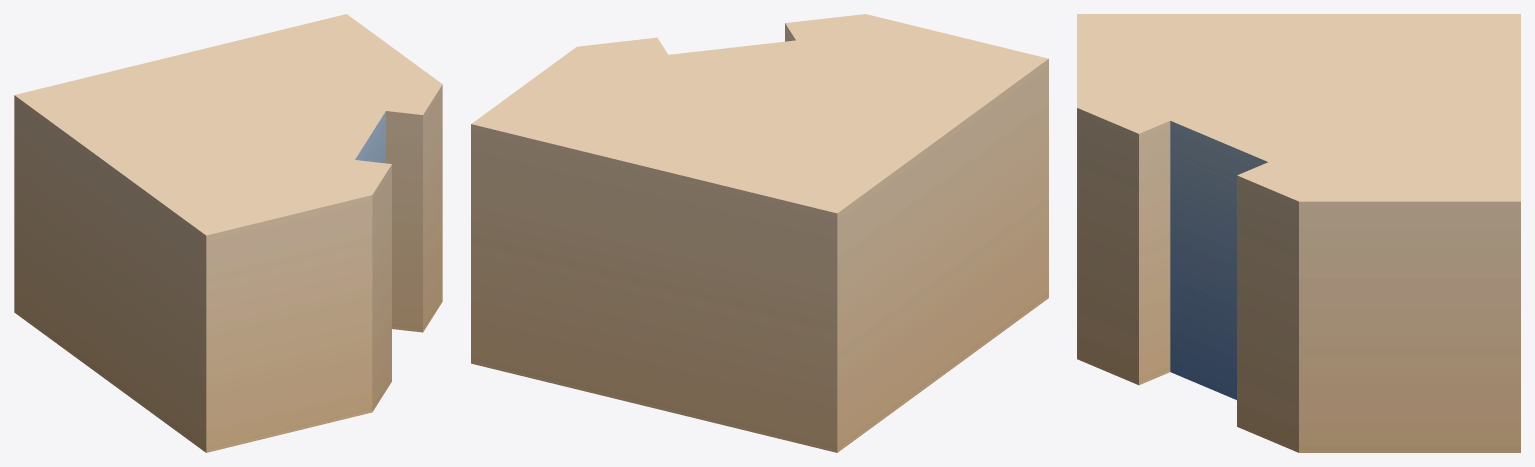
File: building-corner-window-middle.glb
3 views of the same model, side by side, from view 1: azimuth 30°, elevation 25°; view 2: azimuth 150°, elevation 25°; view 3: azimuth 270°, elevation 25° (orthographic). The views are drawn at different scales.
Visible parts, largest first — view 1: building-corner-window-middle; view 2: building-corner-window-middle; view 3: building-corner-window-middle.
Part boxes in pixels (box(x1,y1,x2,y2)): building-corner-window-middle: box(14, 14, 442, 452); building-corner-window-middle: box(471, 14, 1048, 452); building-corner-window-middle: box(1077, 14, 1520, 452).
Size of the model in its own units: 1 by 0.625 by 1.
Materials: 1 (1 with a texture image).
